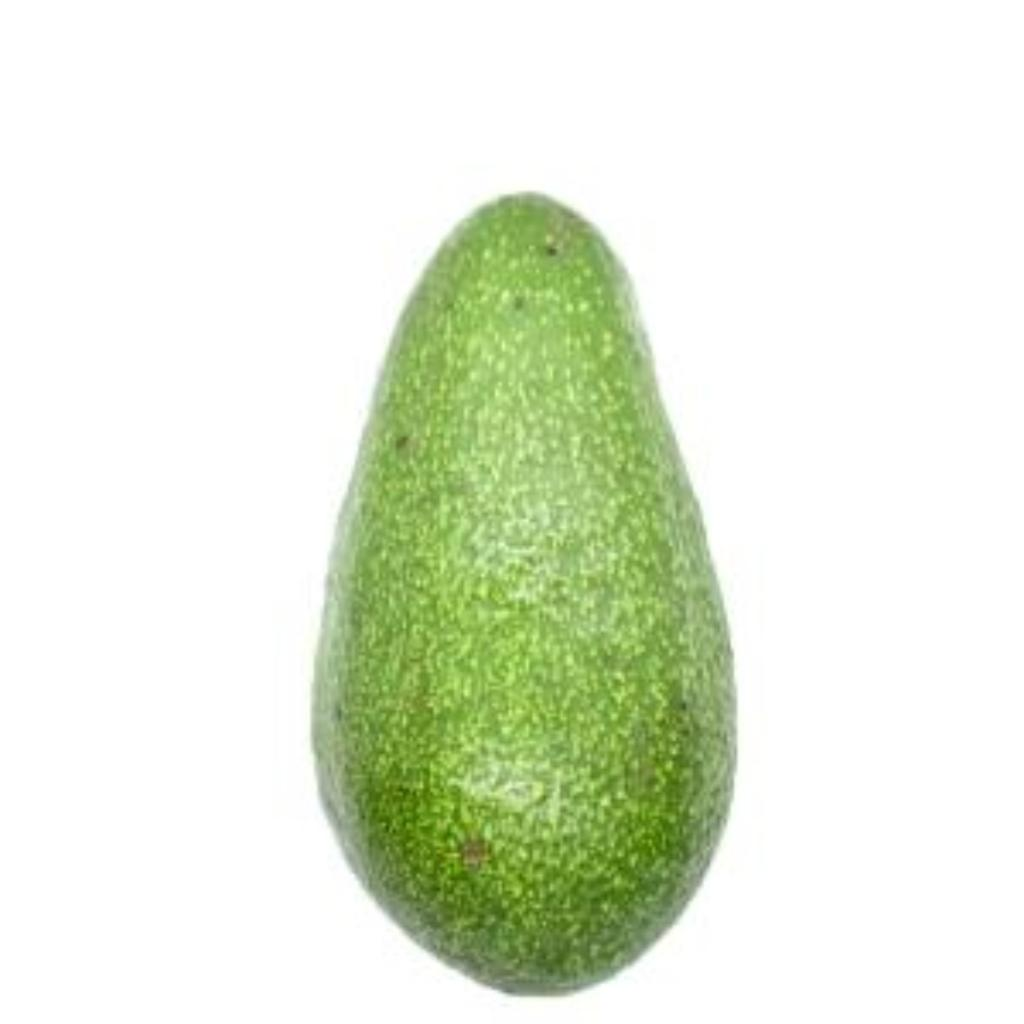cercospora_spot: (261, 165, 807, 1005)
